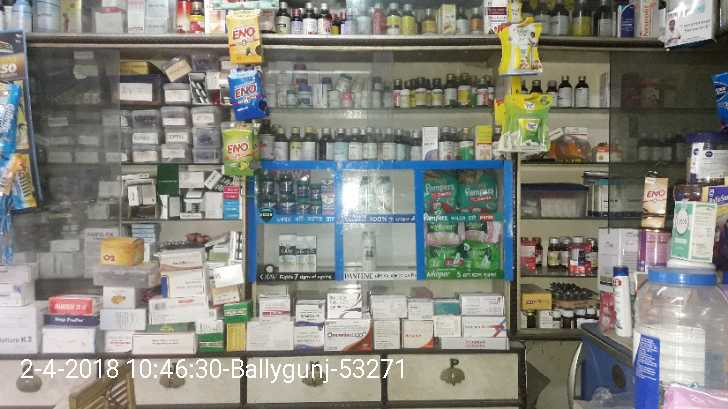vicks: (263, 172, 334, 217)
